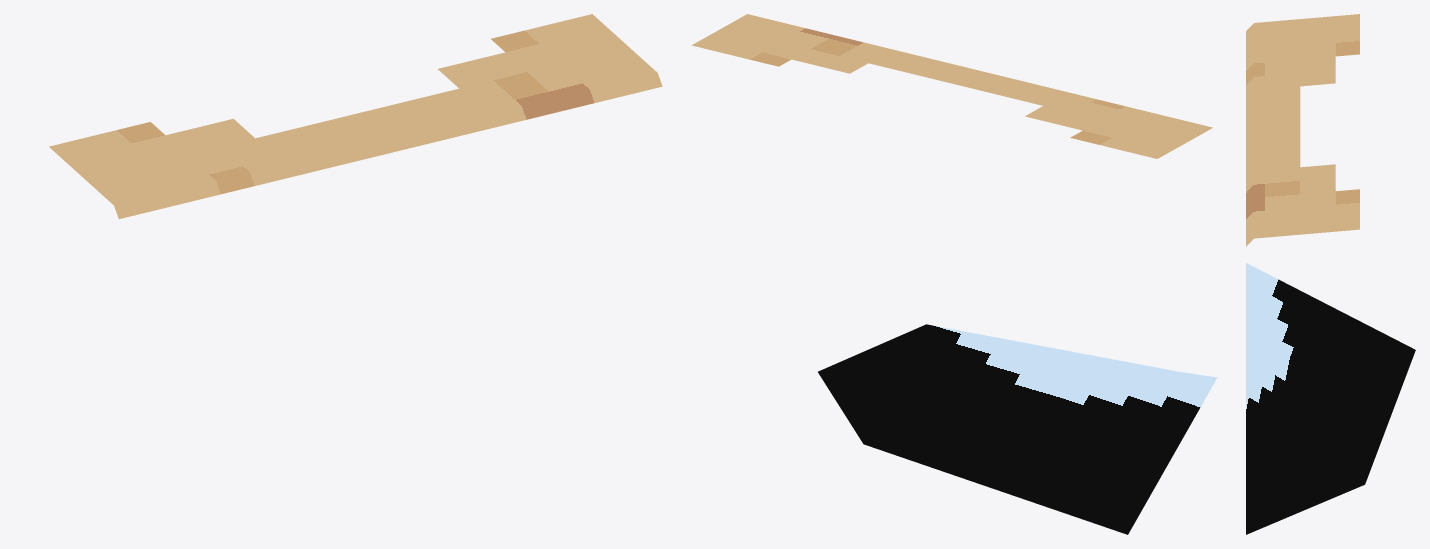
3 renders of one model, left to right at view 1: azimuth 30°, elevation 25°; view 2: azimuth 150°, elevation 25°; view 3: azimuth 270°, elevation 25°, orthographic. The views are drawn at different scales.
Size of the model in its own units: 1 by 0.7266 by 0.333.
2 materials, 2 textured.
